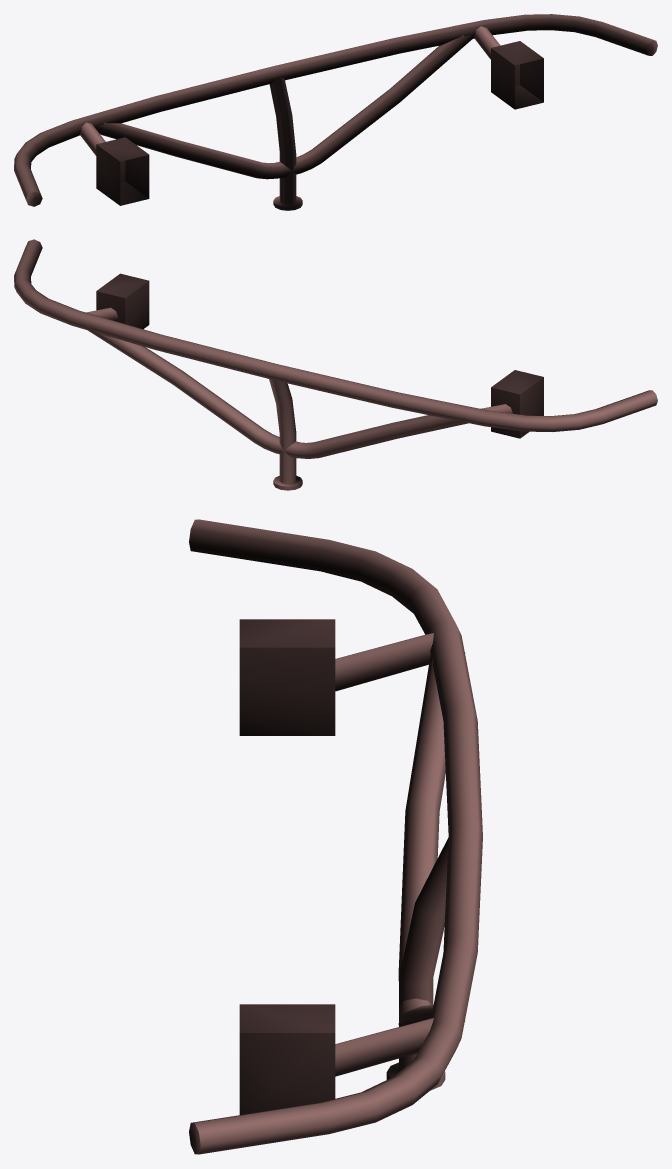
Rendered from G37_RB_BB01_Trim.fbx.
The picture shows the model from 3 angles, top to bottom: view 1: azimuth 30°, elevation 25°; view 2: azimuth 150°, elevation 25°; view 3: azimuth 270°, elevation 25°; orthographic projection. The views are drawn at different scales.
Visible parts, largest first — view 1: G37_RB_BB01_Trim; view 2: G37_RB_BB01_Trim; view 3: G37_RB_BB01_Trim.
Part boxes in pixels (bbox=[...]): G37_RB_BB01_Trim: bbox=[14, 14, 657, 210]; G37_RB_BB01_Trim: bbox=[14, 239, 657, 490]; G37_RB_BB01_Trim: bbox=[189, 519, 482, 1154].
Bounding box in the file's own units: 170 × 33.2 × 34.25.
